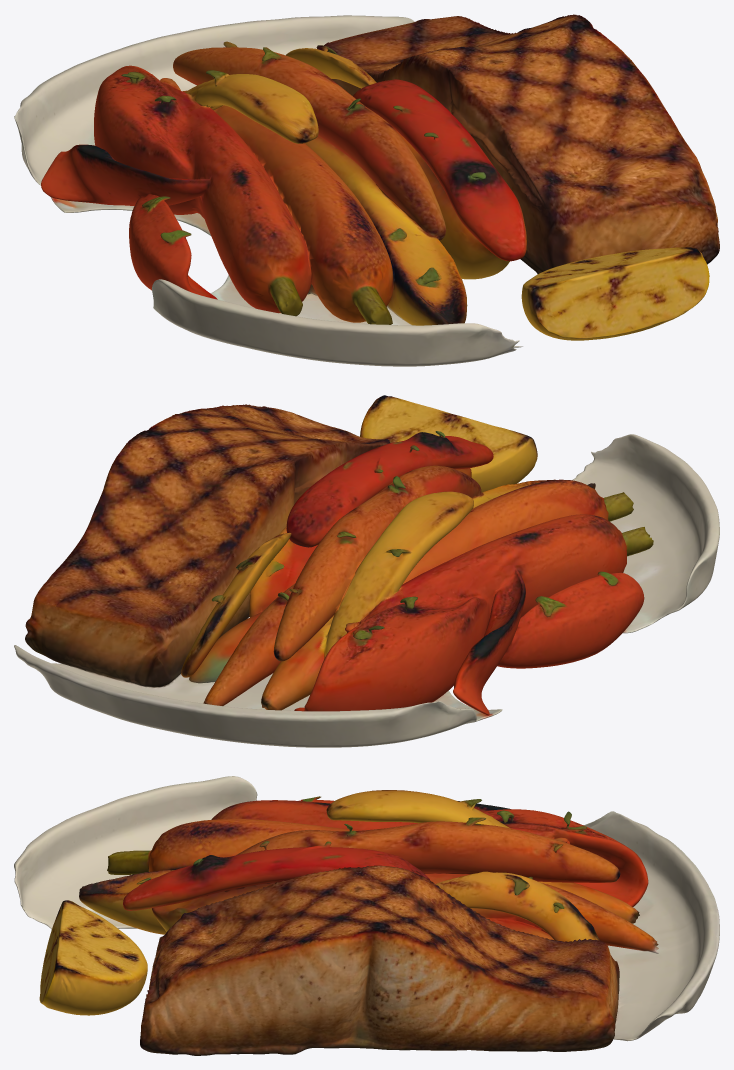
The picture shows the model from 3 angles, top to bottom: view 1: azimuth 30°, elevation 25°; view 2: azimuth 150°, elevation 25°; view 3: azimuth 270°, elevation 25°; orthographic projection. The views are drawn at different scales.
Parts seen in each view (by area): view 1: tripo_node_867a8bcd-5d67-4962-aab4-8b7b3c531533; view 2: tripo_node_867a8bcd-5d67-4962-aab4-8b7b3c531533; view 3: tripo_node_867a8bcd-5d67-4962-aab4-8b7b3c531533.
Boxes of the visible parts, x1,y1,x2,y2 form: tripo_node_867a8bcd-5d67-4962-aab4-8b7b3c531533: (14,14,719,366); tripo_node_867a8bcd-5d67-4962-aab4-8b7b3c531533: (14,395,719,747); tripo_node_867a8bcd-5d67-4962-aab4-8b7b3c531533: (14,776,719,1055).
Size of the model in its own units: 0.7406 by 0.1994 by 0.9786.
Materials: 1 (1 with a texture image).
